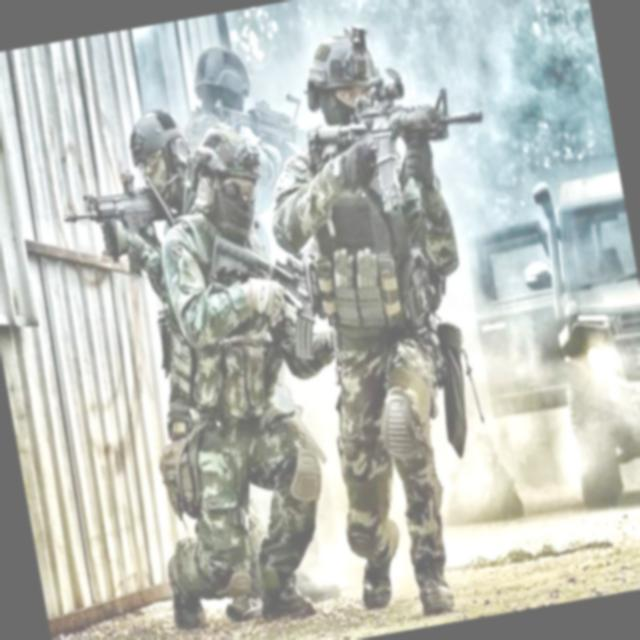m16: (276, 45, 536, 266)
